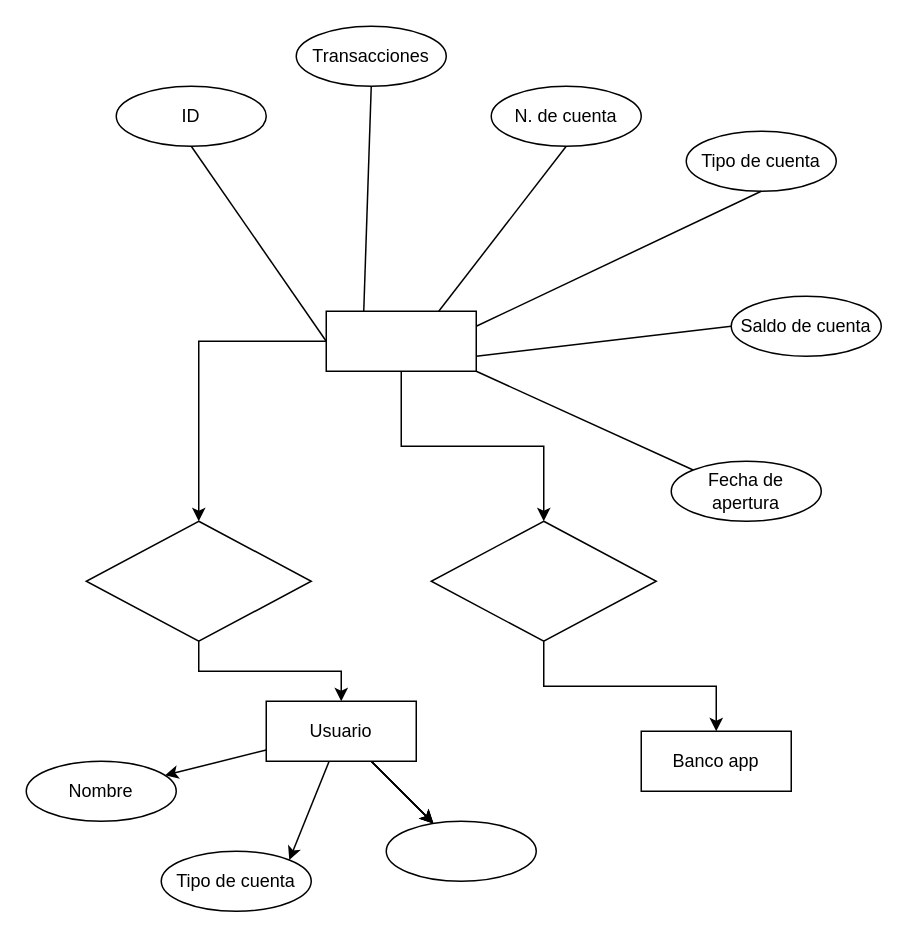
This 908x938 diagram has some shape labels left out. Here are the shapes that lost their labels. From the top down, the centre of each, then its label:
At pixel 400 340: "Datos Bancarios".
At pixel 198 580: "Cliente".
At pixel 543 580: "Banco".
At pixel 460 850: "Tipo de cliente".
